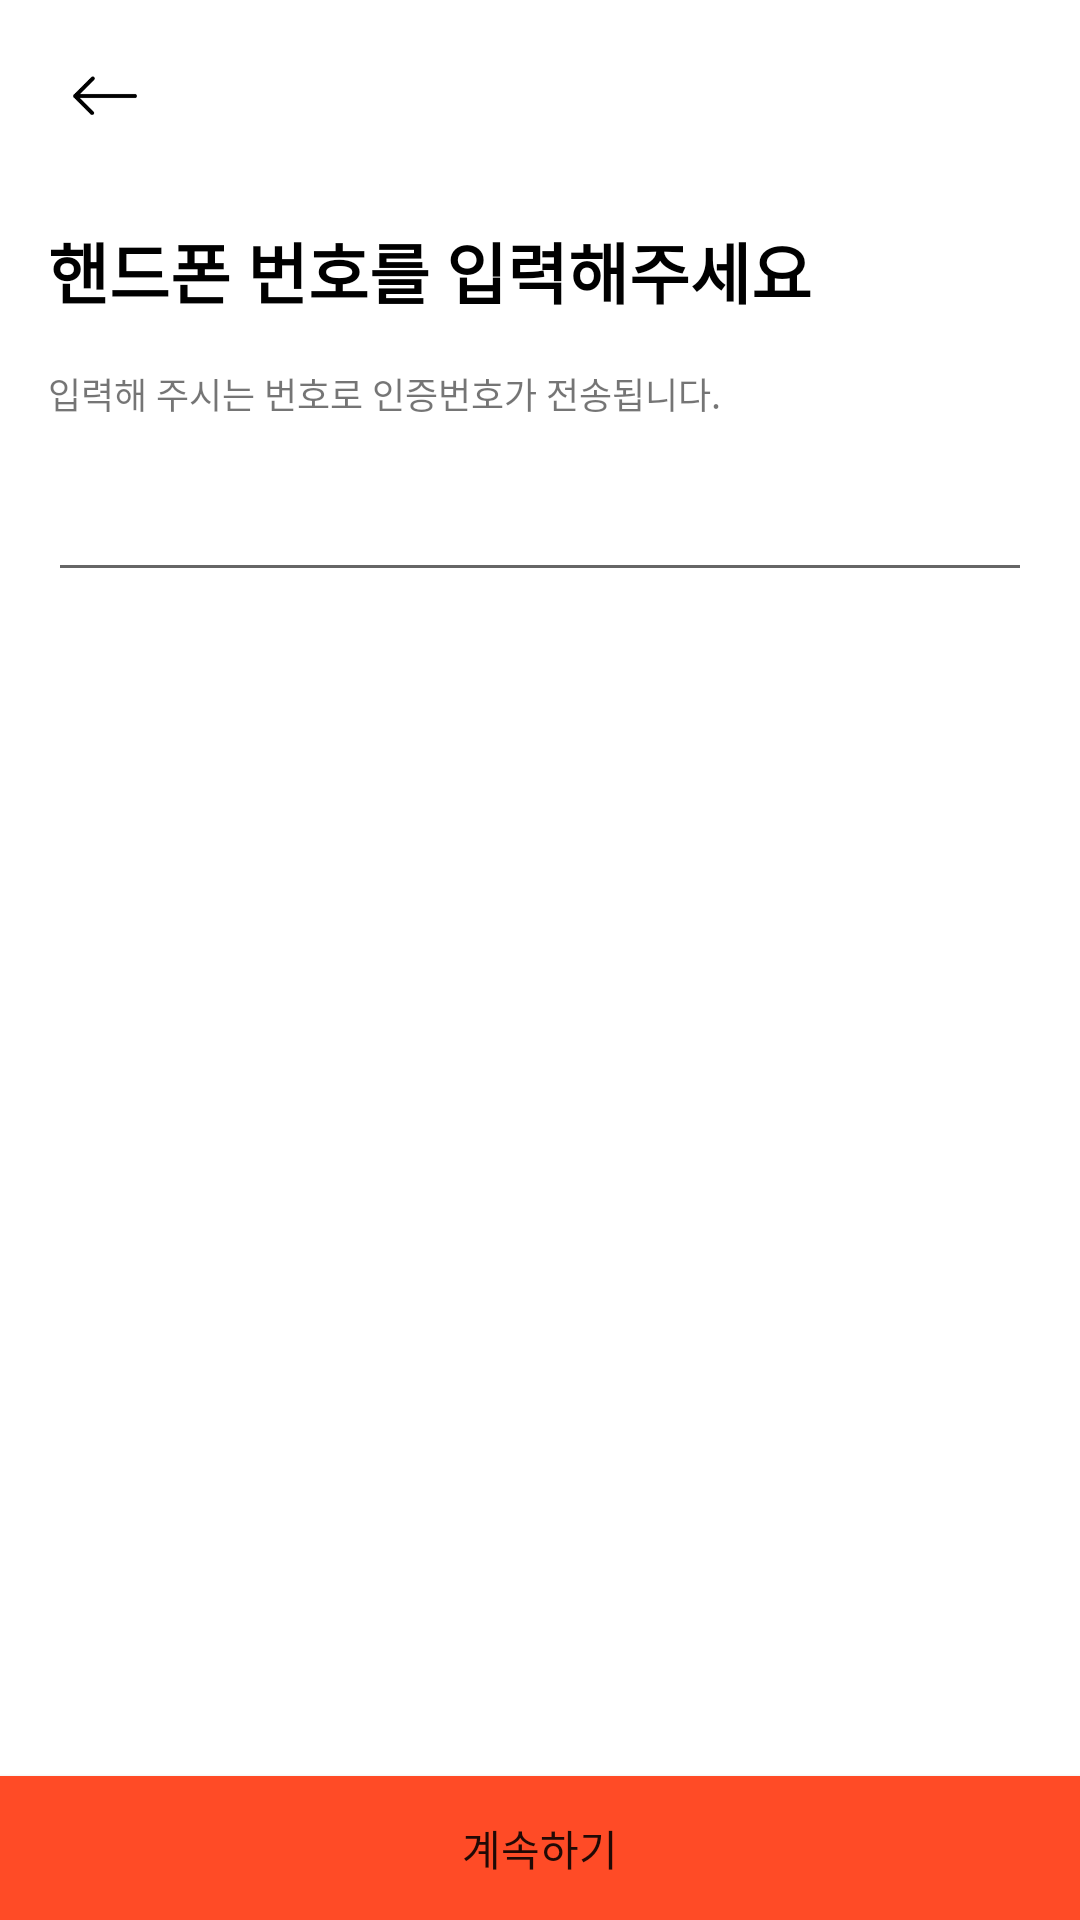

Screen size 1080 × 1920. Icon name, then its box in pixels as (x1, y1, x2, y2):
back: (73, 76, 137, 115)
